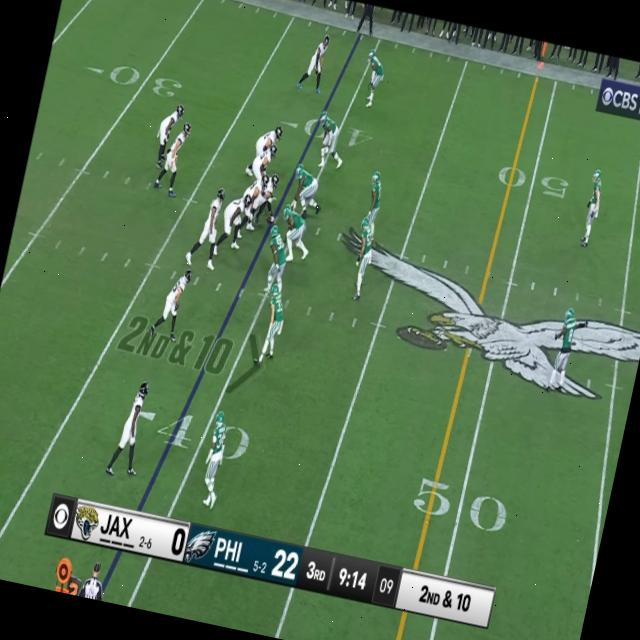Player: (196, 409, 232, 508), (113, 378, 150, 468), (192, 184, 227, 266), (156, 265, 194, 333), (256, 284, 288, 362), (346, 216, 376, 298), (159, 118, 192, 192), (218, 188, 250, 248), (312, 109, 344, 167), (240, 172, 268, 236), (356, 48, 386, 107), (261, 223, 292, 280), (302, 31, 330, 89), (288, 163, 321, 210), (154, 100, 184, 150), (277, 204, 309, 242), (250, 140, 278, 182), (364, 170, 386, 219), (254, 122, 282, 153), (262, 170, 280, 207)
